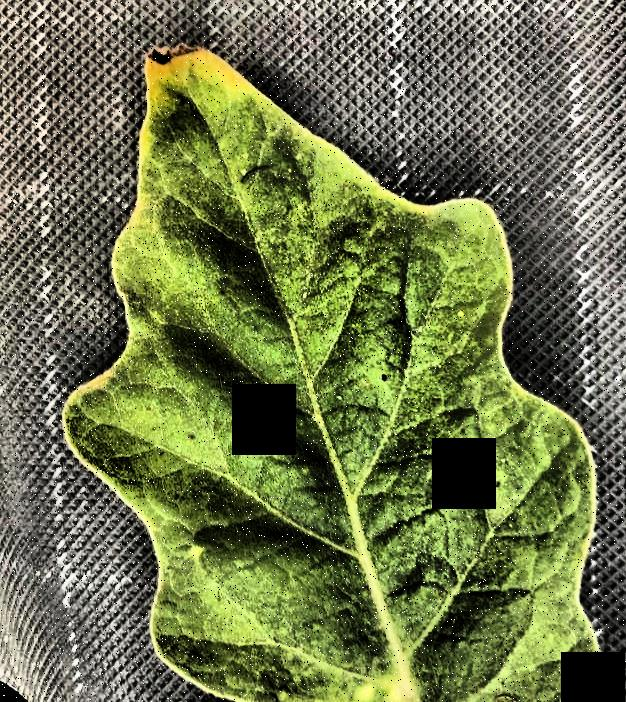Non-critical Stress: (0, 1, 626, 702)
